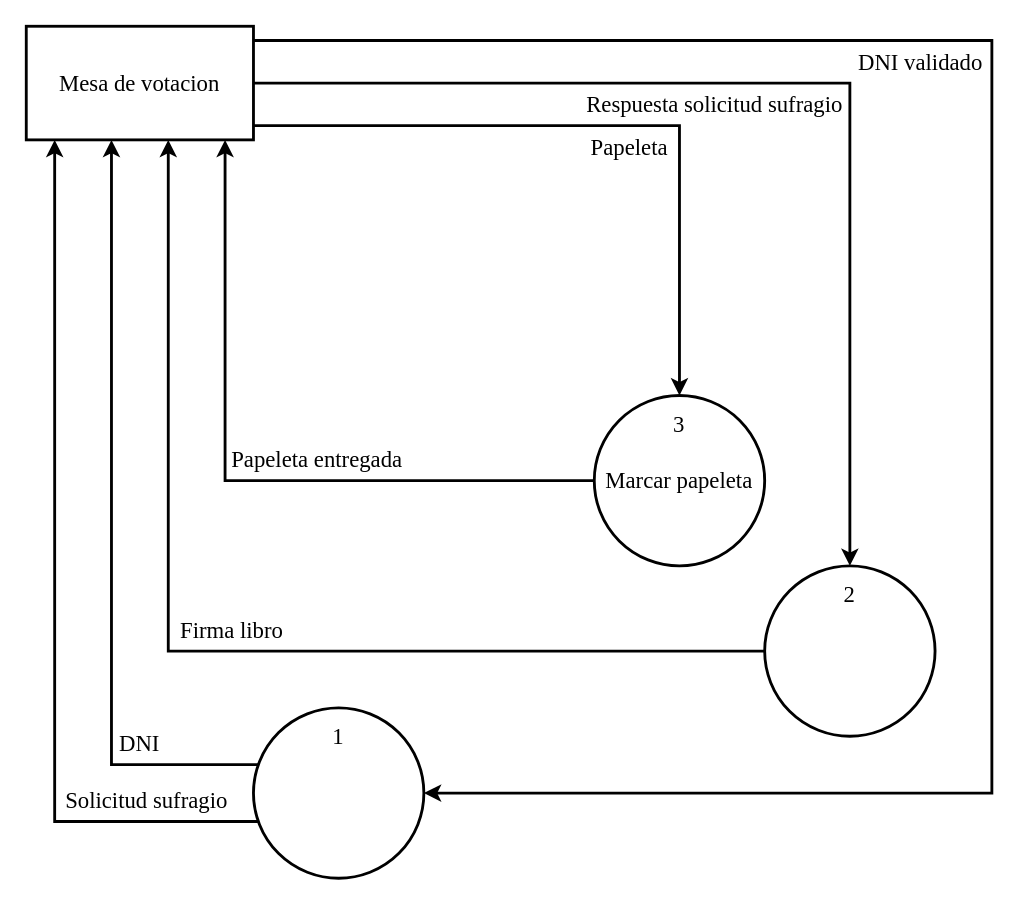
Some shapes in this 1028 by 903 pixel diagram are drawn without their labels. The shapes that lost their labels are listed below. From the top down, each one's box as (x1, y1, x2, y2) in pixels, then its label:
(763, 564, 936, 737): Firmar libro
(251, 706, 425, 879): Presentacion en mesa de votacion
